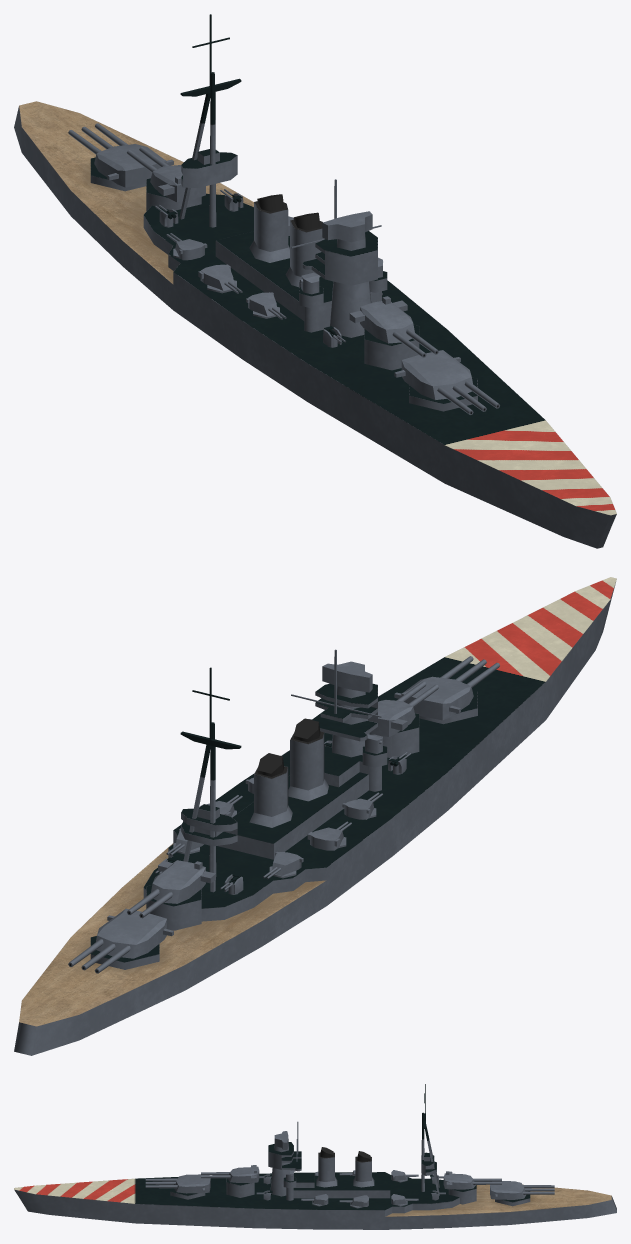
The model's file is giulio-cesare-dreadnought.glb.
3 renders of one model, top to bottom at view 1: azimuth 30°, elevation 25°; view 2: azimuth 150°, elevation 25°; view 3: azimuth 270°, elevation 25°, orthographic. The views are drawn at different scales.
Parts seen in each view (by area): view 1: Giulio_Cesare_Hull, Giulio_Cesare_Triple_Turret, Giulio_Cesare_Triple_Turret1, Giulio_Cesare_Twin_Turret, Giulio_Cesare_Twin_Turret1, Giulio_Cesare_Large_Secondary_Twin_Turret1_Giulio_Cesare_Mat; view 2: Giulio_Cesare_Hull, Giulio_Cesare_Triple_Turret1, Giulio_Cesare_Triple_Turret, Giulio_Cesare_Twin_Turret1, Giulio_Cesare_Twin_Turret, Giulio_Cesare_Large_Secondary_Twin_Turret1_Giulio_Cesare_Mat, Giulio_Cesare_Secondary_Twin_Turret3; view 3: Giulio_Cesare_Hull, Giulio_Cesare_Triple_Turret, Giulio_Cesare_Triple_Turret1, Giulio_Cesare_Twin_Turret1, Giulio_Cesare_Twin_Turret.
Part boxes in pixels (<box>): Giulio_Cesare_Hull: <box>14,14,616,548</box>; Giulio_Cesare_Triple_Turret: <box>394,350,472,399</box>; Giulio_Cesare_Triple_Turret1: <box>94,144,173,187</box>; Giulio_Cesare_Twin_Turret: <box>349,296,414,343</box>; Giulio_Cesare_Twin_Turret1: <box>150,165,205,202</box>; Giulio_Cesare_Large_Secondary_Twin_Turret1_Giulio_Cesare_Mat: <box>198,264,236,293</box>; Giulio_Cesare_Hull: <box>14,577,616,1055</box>; Giulio_Cesare_Triple_Turret1: <box>96,908,173,958</box>; Giulio_Cesare_Triple_Turret: <box>394,676,473,720</box>; Giulio_Cesare_Twin_Turret1: <box>151,860,215,903</box>; Giulio_Cesare_Twin_Turret: <box>370,700,415,736</box>; Giulio_Cesare_Large_Secondary_Twin_Turret1_Giulio_Cesare_Mat: <box>307,827,346,850</box>; Giulio_Cesare_Secondary_Twin_Turret3: <box>269,851,303,878</box>; Giulio_Cesare_Hull: <box>14,1084,616,1229</box>; Giulio_Cesare_Triple_Turret: <box>174,1174,210,1193</box>; Giulio_Cesare_Triple_Turret1: <box>490,1181,525,1199</box>; Giulio_Cesare_Twin_Turret1: <box>443,1171,475,1189</box>; Giulio_Cesare_Twin_Turret: <box>227,1165,259,1182</box>.
Size of the model in its own units: 1.43 by 2.21 by 9.55.
Materials: 1 (1 with a texture image).
